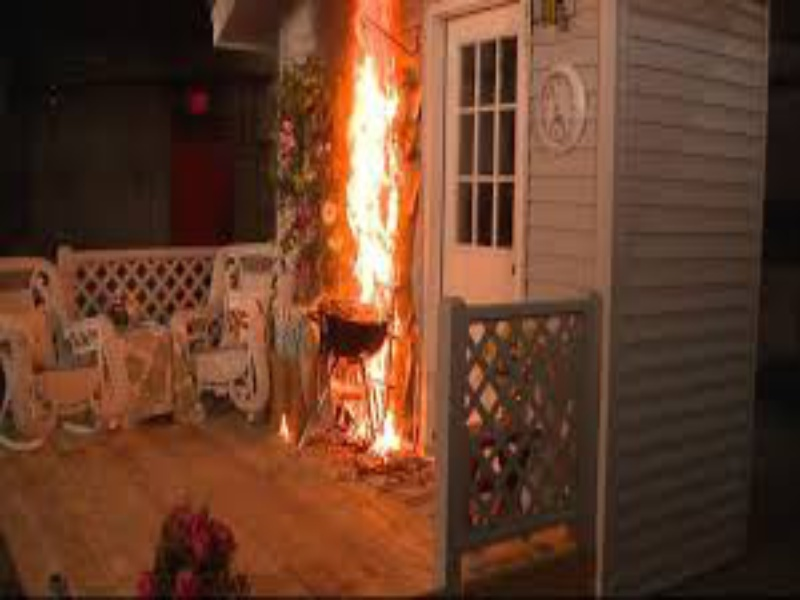fire: (339, 50, 419, 466), (276, 410, 294, 442)
